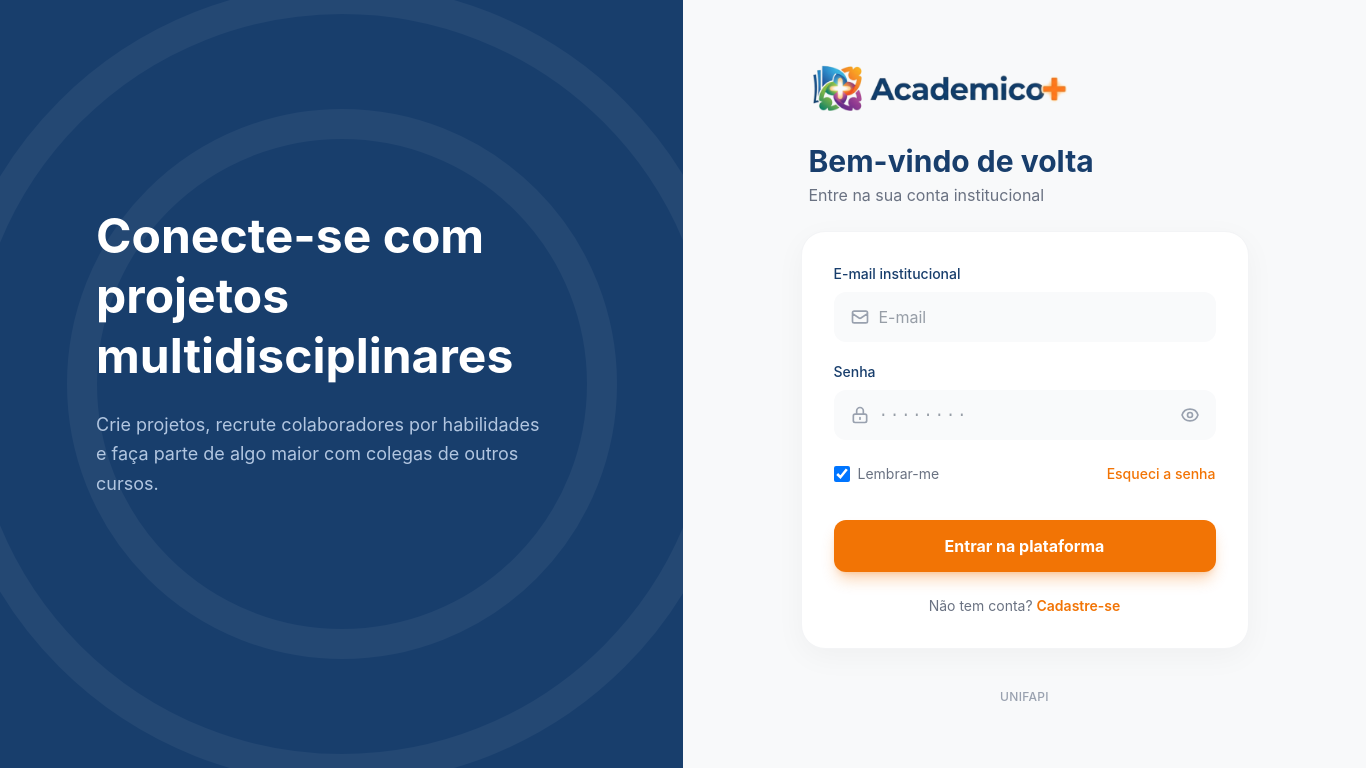
Test case: Login › mostra a mensagem de erro quando o backend responde 200 com sucesso:false
Type "ana@academico.edu.br" into the field with placeholder "E-mail".
click(1024, 317); type("ana@academico.edu.br")  # box [834,292,1216,342]
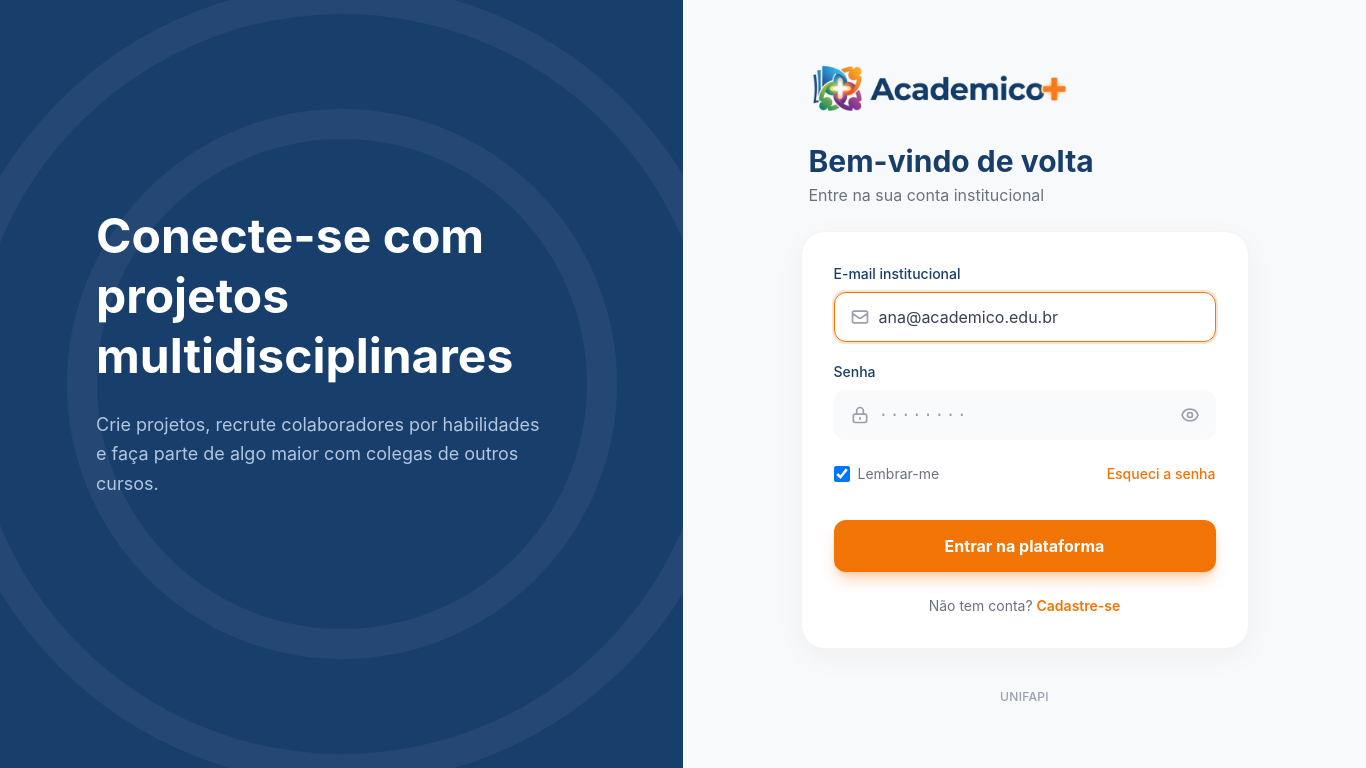
Type "senhaerrada" into the password field with placeholder "········".
click(1024, 415); type("senhaerrada")  # box [834,390,1216,440]
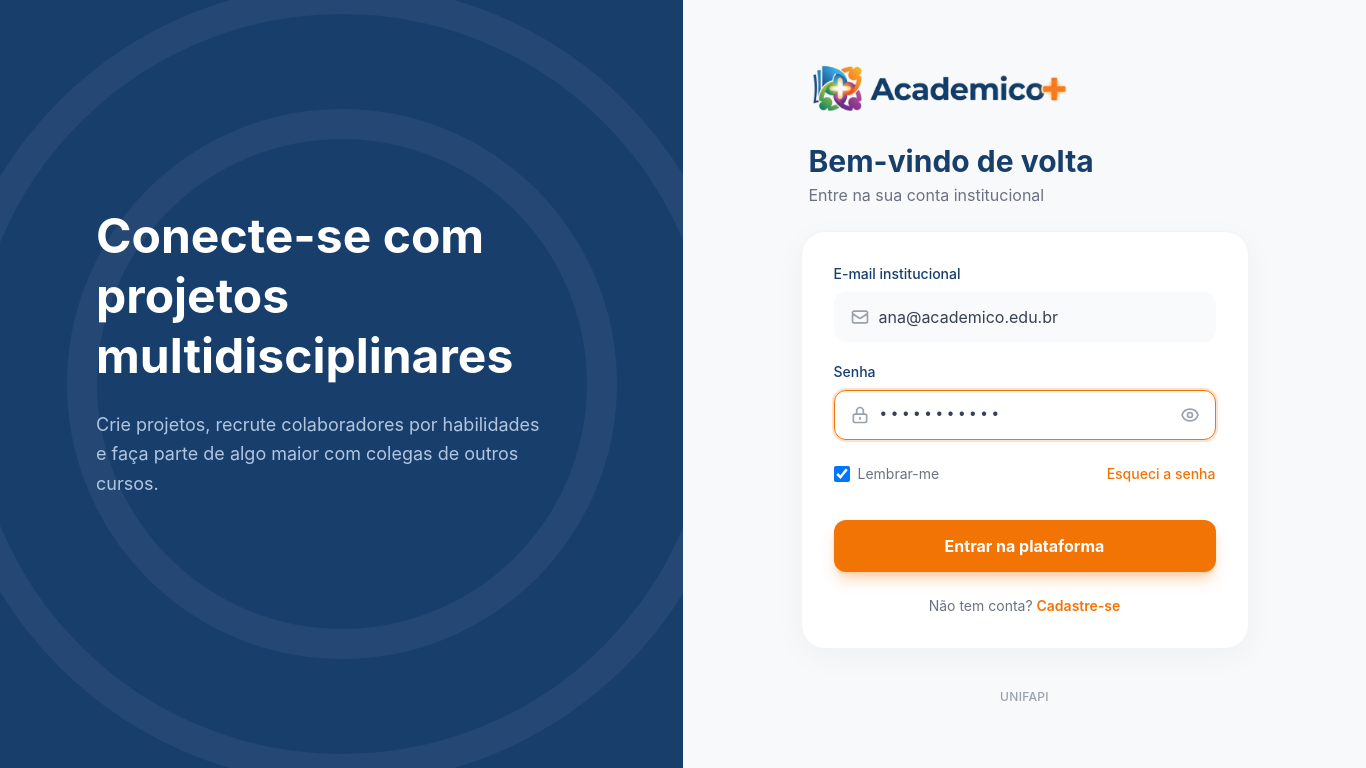
Click the button "Entrar na plataforma".
click(1024, 546)  # box [834,520,1216,572]
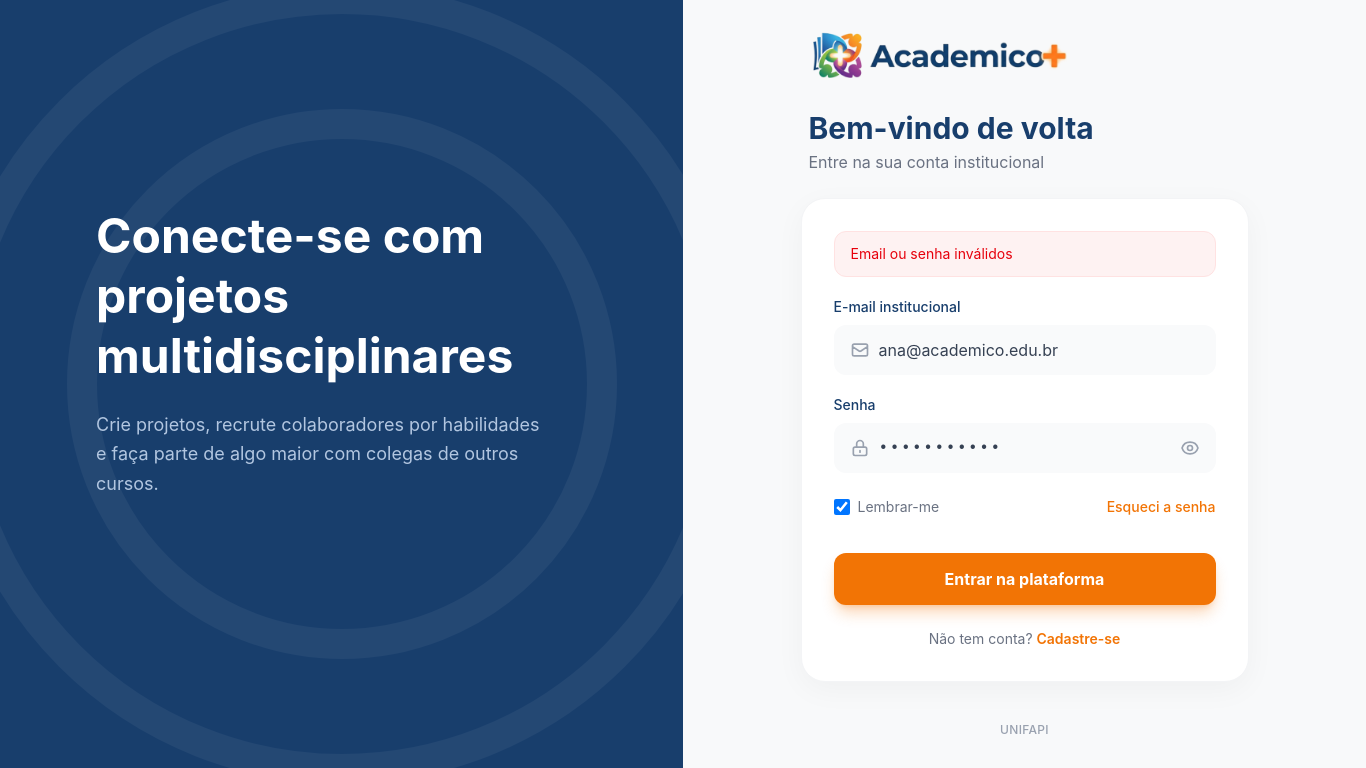
Expected: the text "Email ou senha inválidos" is shown, [834,231,1216,277]
